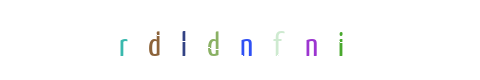D: (114, 0, 194, 80), (185, 0, 265, 80)
F: (205, 0, 285, 80)
I: (272, 0, 352, 80)
L: (144, 0, 224, 80)
N: (200, 0, 280, 80), (207, 0, 287, 80)
R: (82, 0, 162, 80)
